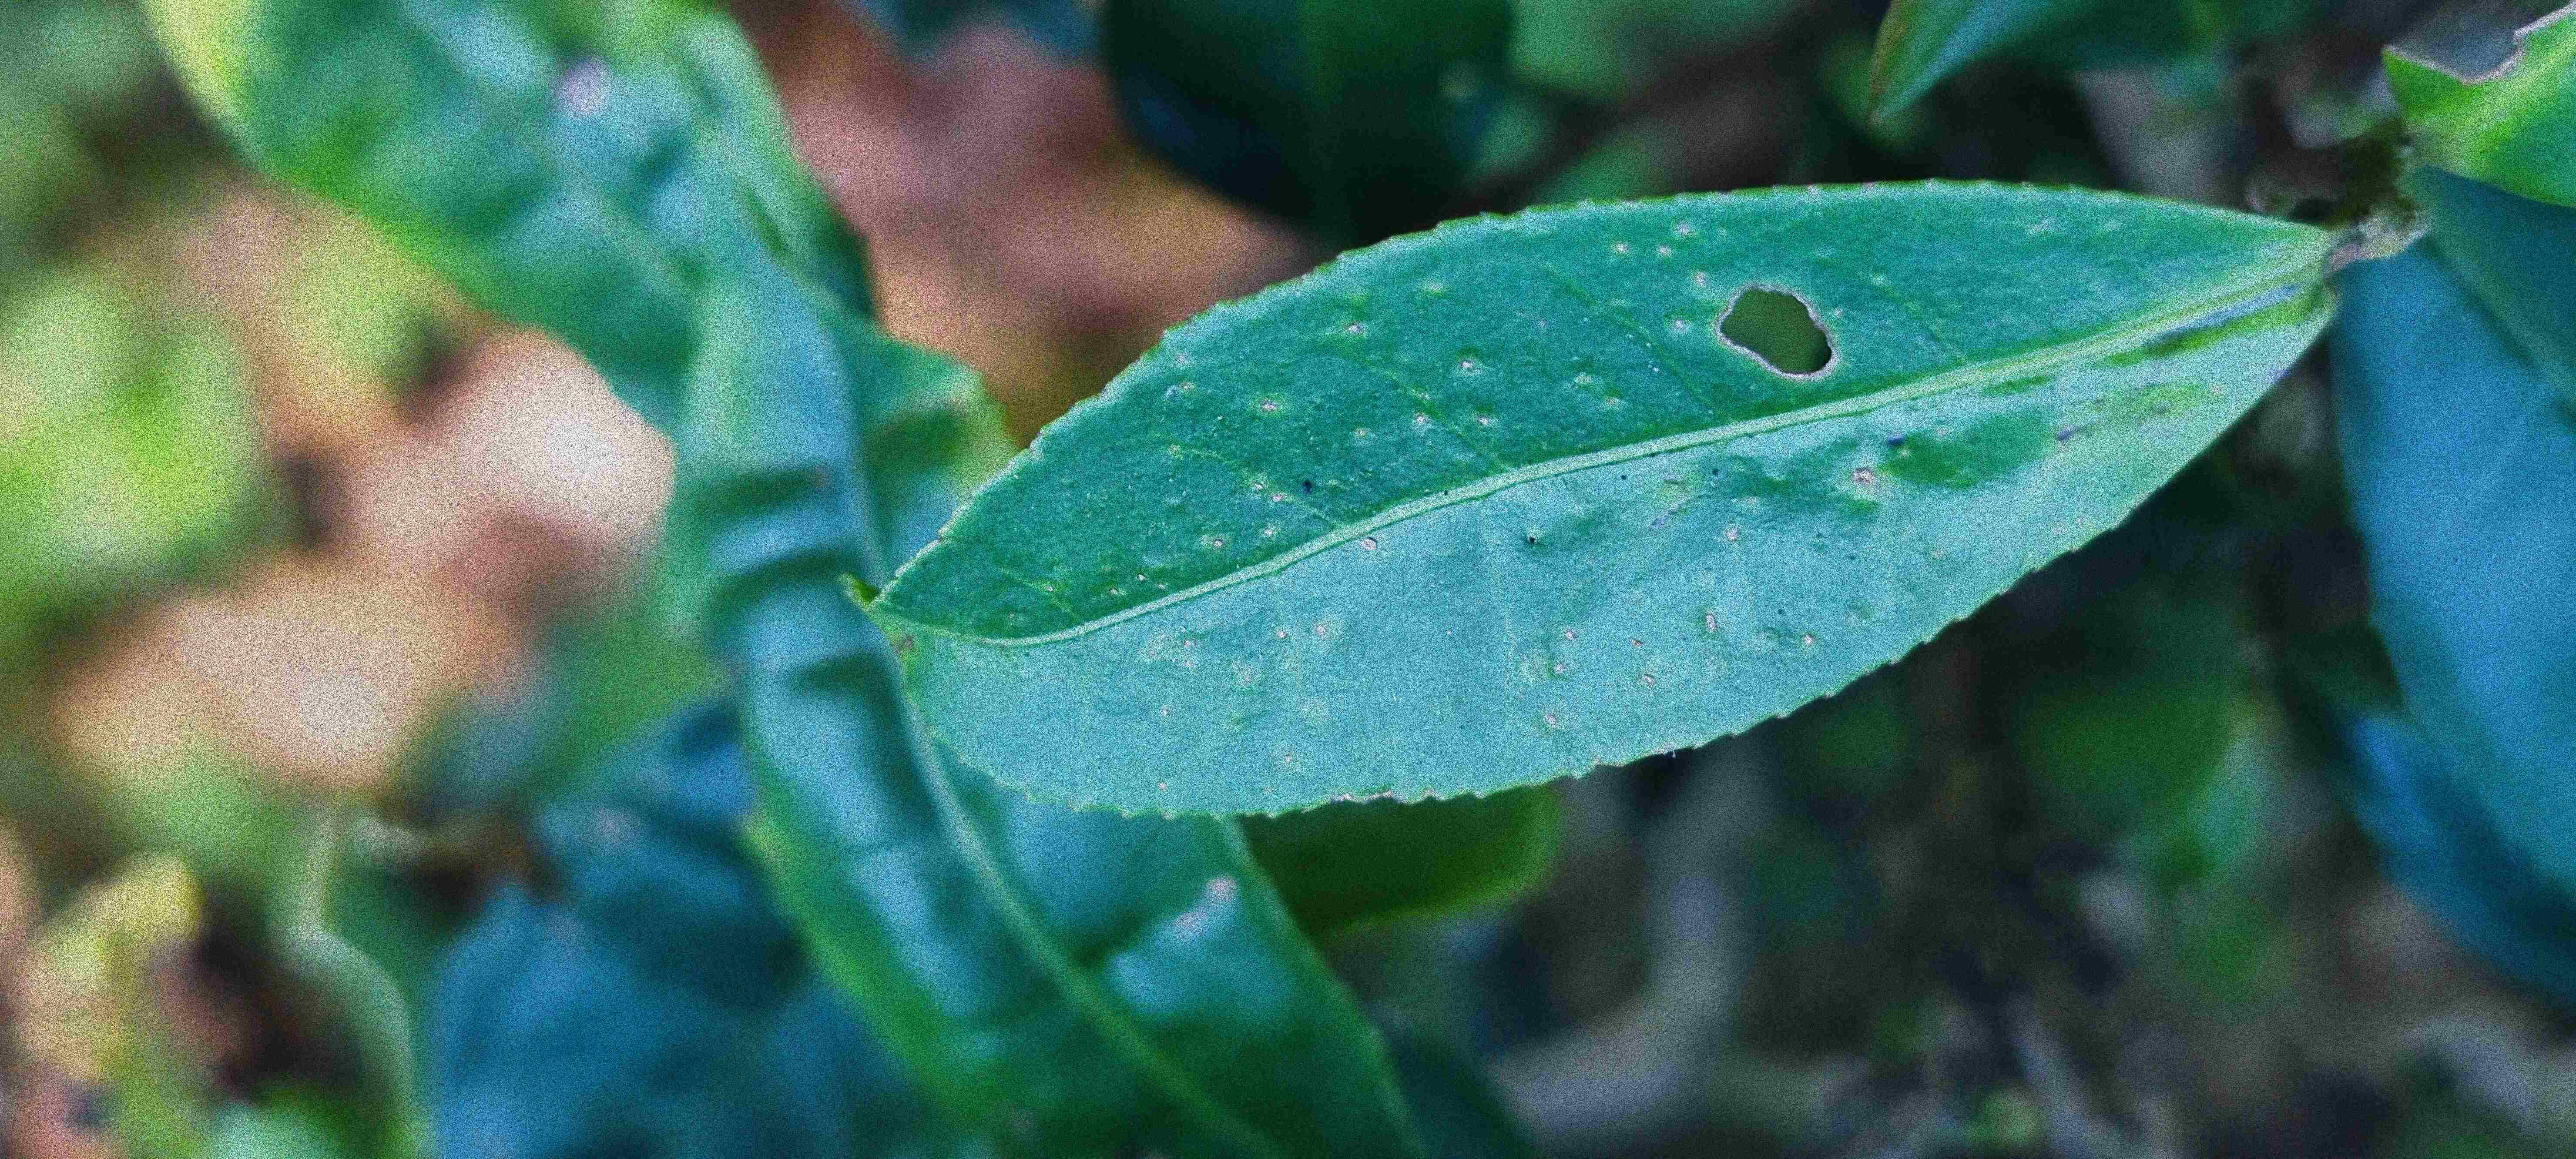chihuo_low: (839, 169, 2353, 827)
